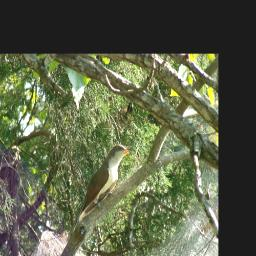Cuckoo: (66, 142, 131, 241)
